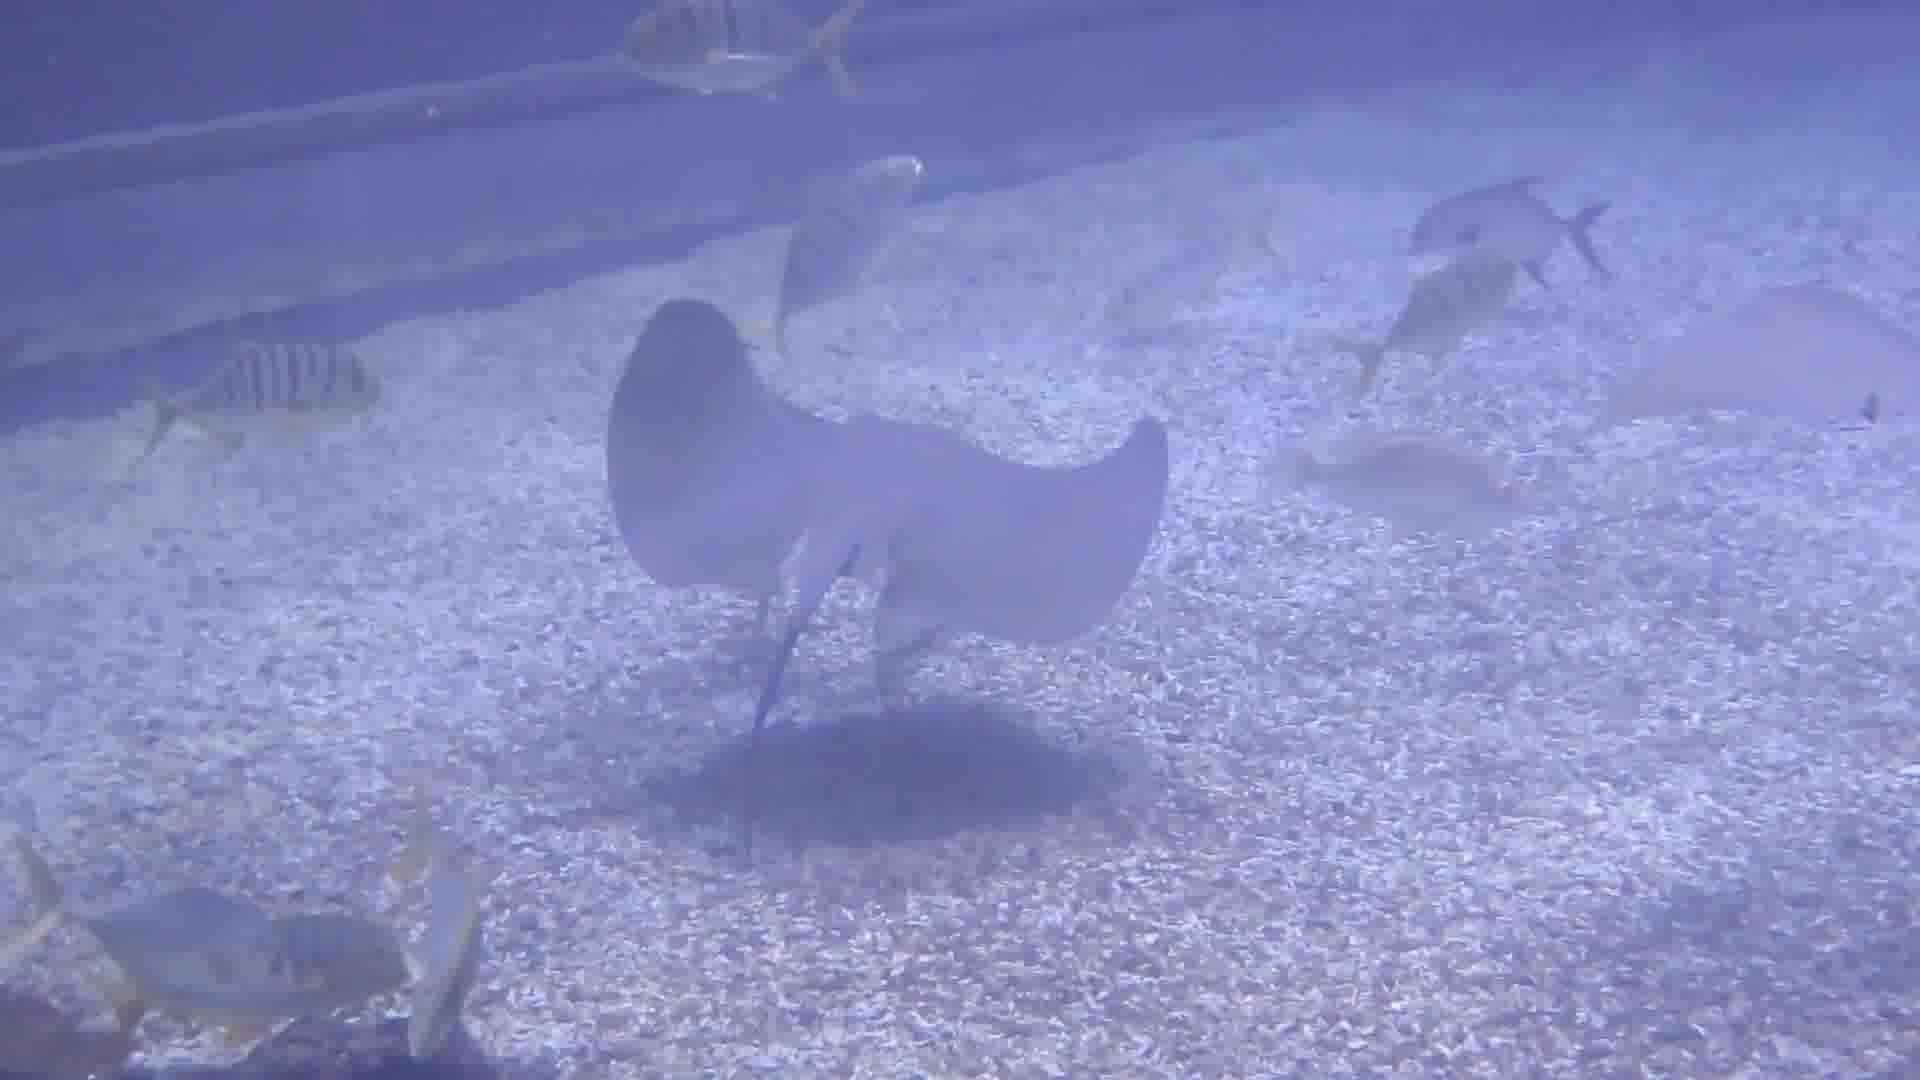Dasyatis akajei: (522, 310, 1212, 800)
